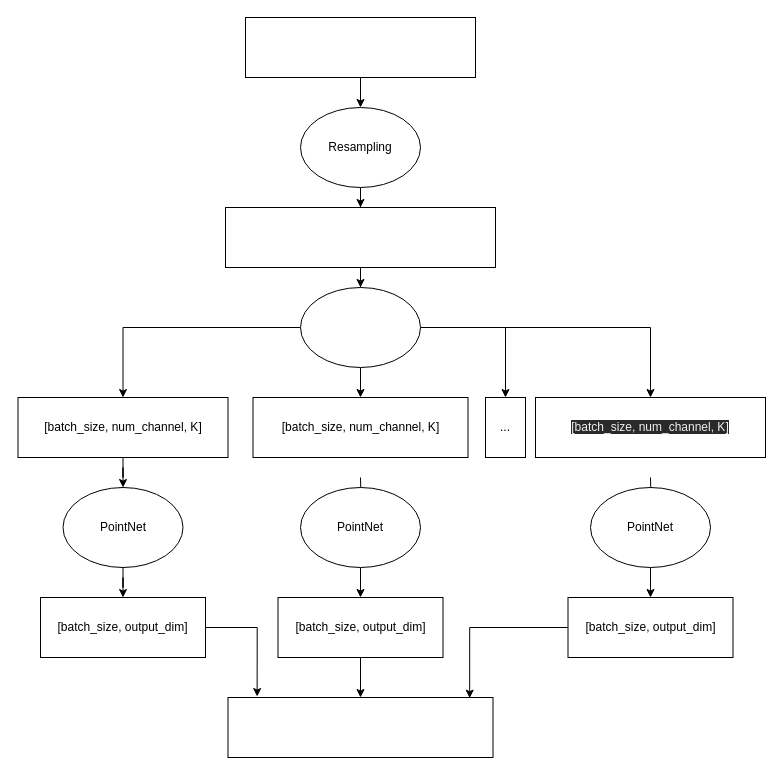
Image size: 783x775. Some labels were removed from this diagram. Each missing label, with the centre of its shape:
[batch_size, num_channel, num_points]: (360,47)
[batch_size, num_channel, num_resample]: (360,237)
[batch_size, output_dim, num_resample]: (360,727)
Group: (360,327)
